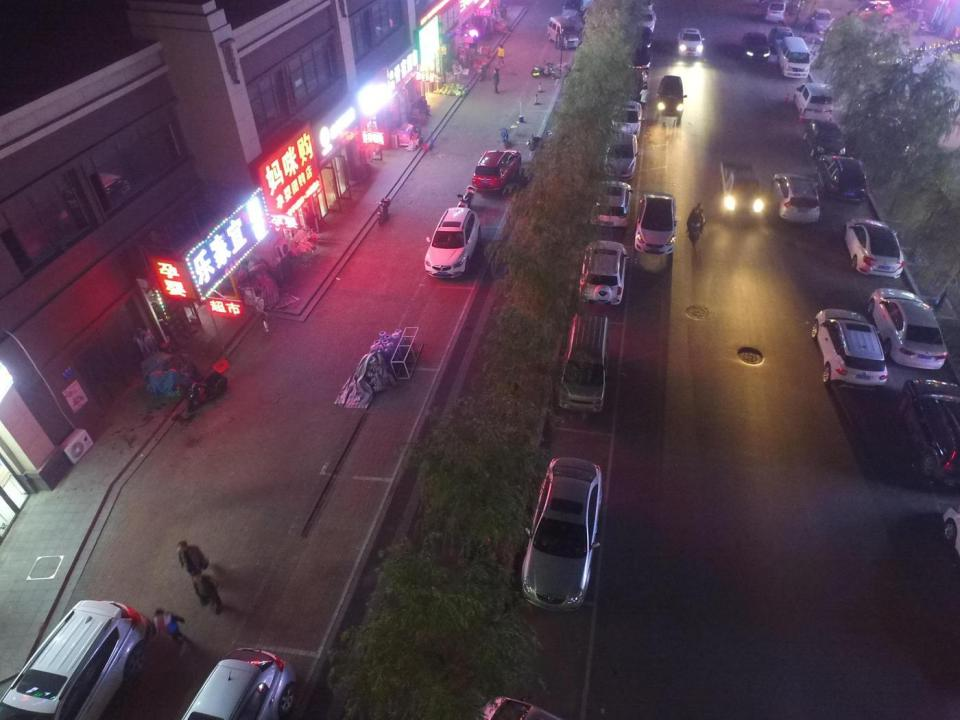car: (521, 458, 602, 610), (180, 647, 296, 720), (867, 288, 947, 370), (812, 308, 888, 390), (842, 218, 905, 278), (634, 192, 676, 255), (815, 154, 866, 203), (770, 174, 819, 222), (590, 180, 633, 228), (472, 150, 521, 191), (604, 132, 641, 180), (802, 120, 844, 158), (611, 101, 645, 140), (616, 69, 647, 109), (846, 0, 893, 23), (742, 33, 770, 61), (678, 28, 704, 56), (769, 27, 794, 53), (632, 9, 656, 34), (810, 9, 834, 34), (561, 0, 583, 22)
truck: (720, 161, 762, 213)
van: (0, 600, 151, 719), (898, 380, 960, 486), (560, 313, 608, 412), (424, 208, 480, 279), (577, 241, 629, 305), (620, 28, 652, 74), (656, 75, 687, 122), (794, 83, 832, 121), (777, 36, 810, 78), (547, 16, 579, 48), (761, 0, 785, 21)
